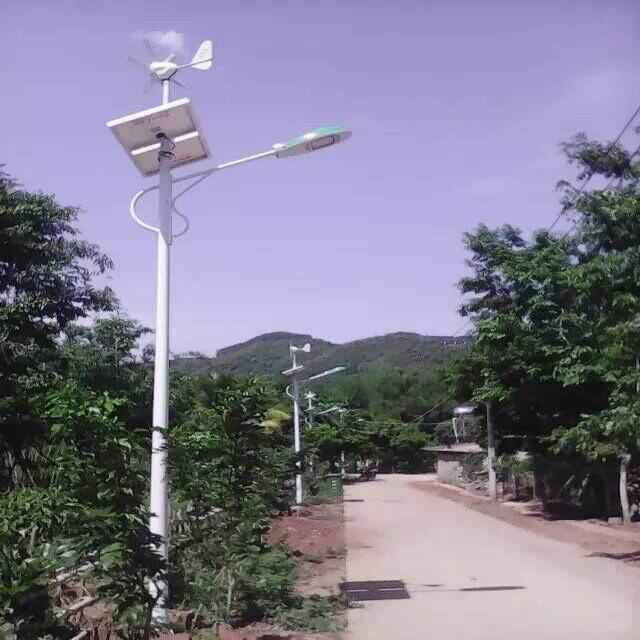pole: (133, 242, 178, 622), (288, 402, 308, 504)
